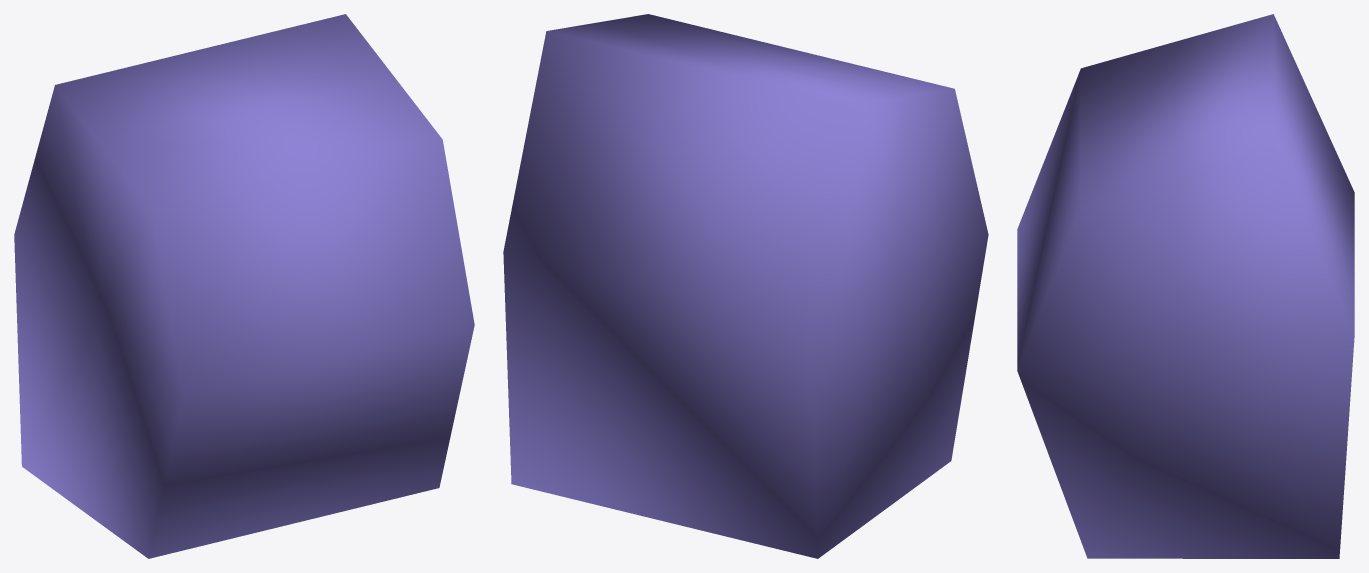
File: Cactus_Short_01_SPR_COL.fbx
The picture shows the model from 3 angles, left to right: view 1: azimuth 30°, elevation 25°; view 2: azimuth 150°, elevation 25°; view 3: azimuth 270°, elevation 25°; orthographic projection. The views are drawn at different scales.
Visible parts, largest first — view 1: Cactus_Short_01_SPR_COL; view 2: Cactus_Short_01_SPR_COL; view 3: Cactus_Short_01_SPR_COL.
Part boxes in pixels (x1,y1,x2,y2): Cactus_Short_01_SPR_COL: [14, 14, 474, 558]; Cactus_Short_01_SPR_COL: [503, 14, 988, 558]; Cactus_Short_01_SPR_COL: [1017, 14, 1354, 558].
Size of the model in its own units: 66.62 by 88.82 by 67.29.
